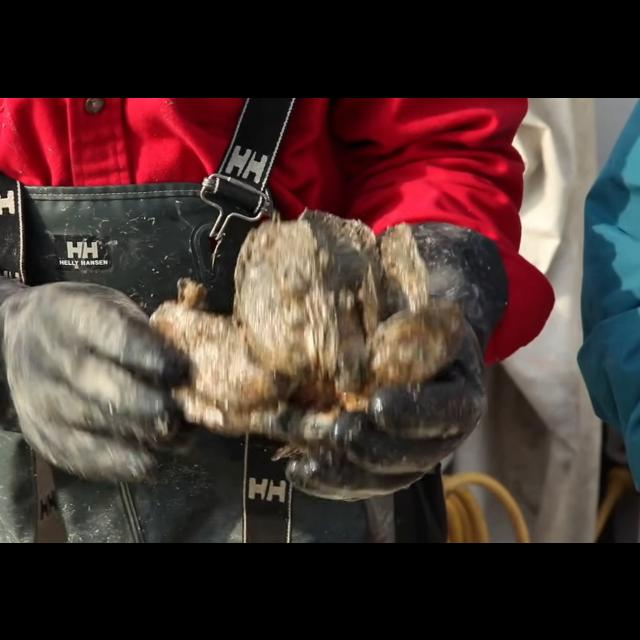Oyster-Closed: (150, 298, 282, 434), (232, 220, 336, 376), (346, 302, 468, 391), (297, 209, 379, 321), (379, 224, 431, 306), (358, 262, 380, 332)
